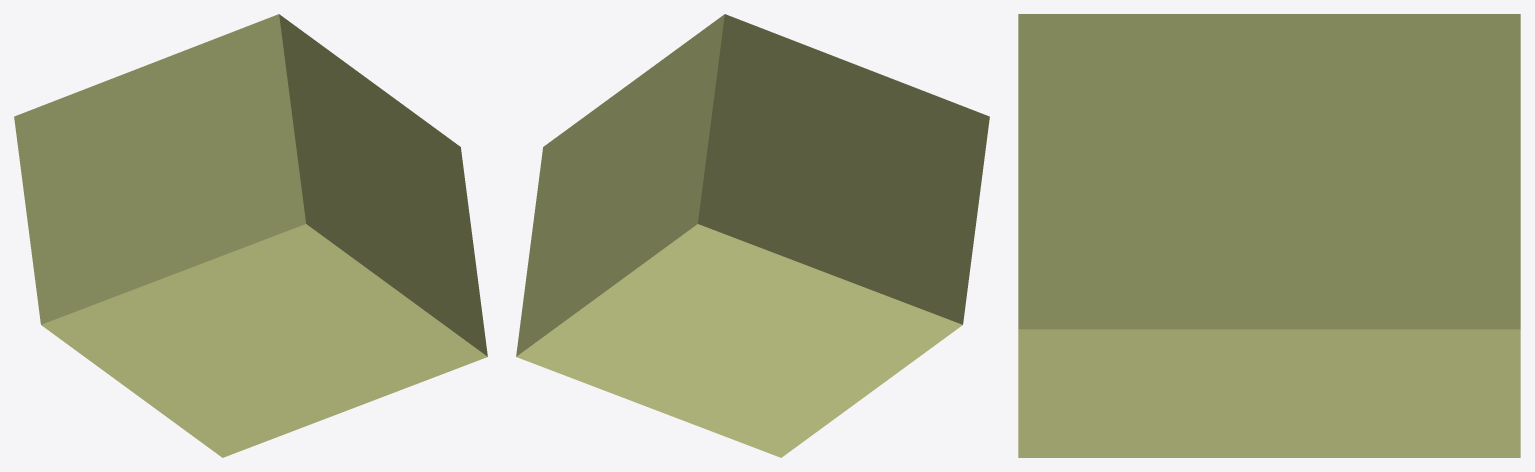
3 views of the same model, side by side, from view 1: azimuth 30°, elevation 25°; view 2: azimuth 150°, elevation 25°; view 3: azimuth 270°, elevation 25° (orthographic). The views are drawn at different scales.
Parts seen in each view (by area): view 1: 0_1_3_2_1_1_1_1_3_0; view 2: 0_1_3_2_1_1_1_1_3_0; view 3: 0_1_3_2_1_1_1_1_3_0.
Boxes of the visible parts, x1,y1,x2,y2 form: 0_1_3_2_1_1_1_1_3_0: [14, 14, 487, 457]; 0_1_3_2_1_1_1_1_3_0: [516, 14, 989, 457]; 0_1_3_2_1_1_1_1_3_0: [1018, 14, 1520, 457].
Bounding box in the file's own units: 5.57 × 4.6 × 6.
